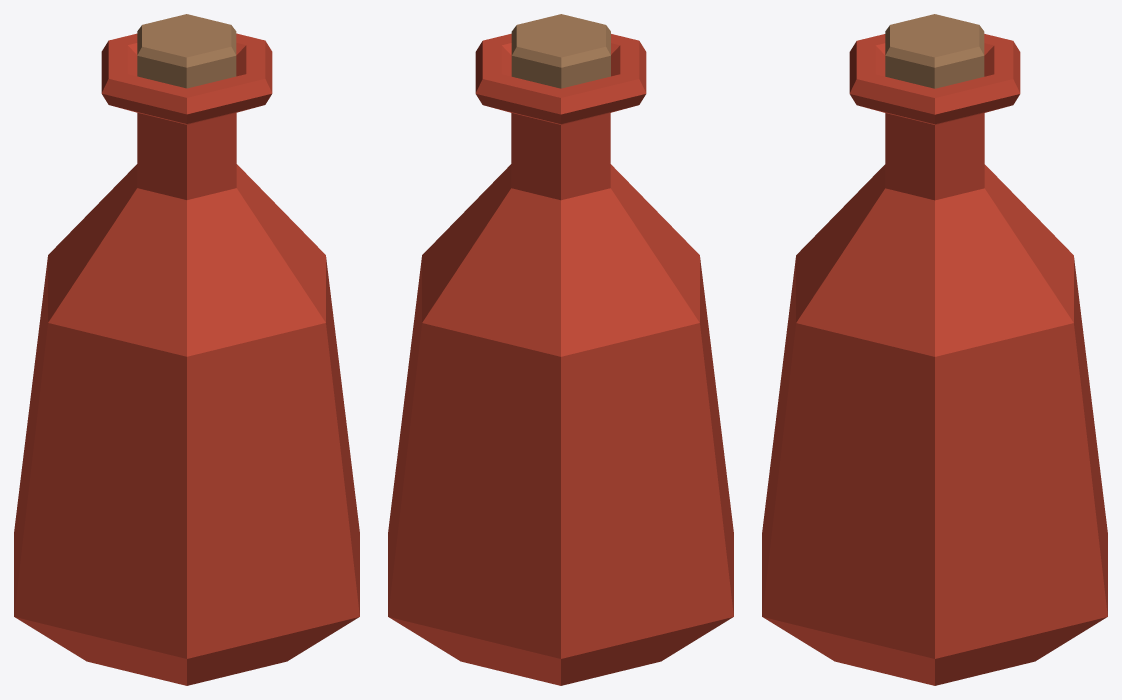
File: potion_7.glb
3 views of the same model, side by side, from view 1: azimuth 30°, elevation 25°; view 2: azimuth 150°, elevation 25°; view 3: azimuth 270°, elevation 25° (orthographic).
Visible parts, largest first — view 1: potion_7; view 2: potion_7; view 3: potion_7.
Boxes of the visible parts, box(x1,y1,x2,y2) form: potion_7: box(14, 14, 359, 685); potion_7: box(388, 14, 733, 685); potion_7: box(762, 14, 1107, 685).
Bounding box in the file's own units: 0.2048 × 0.3403 × 0.1774.
Materials: 2 (2 with a texture image).
